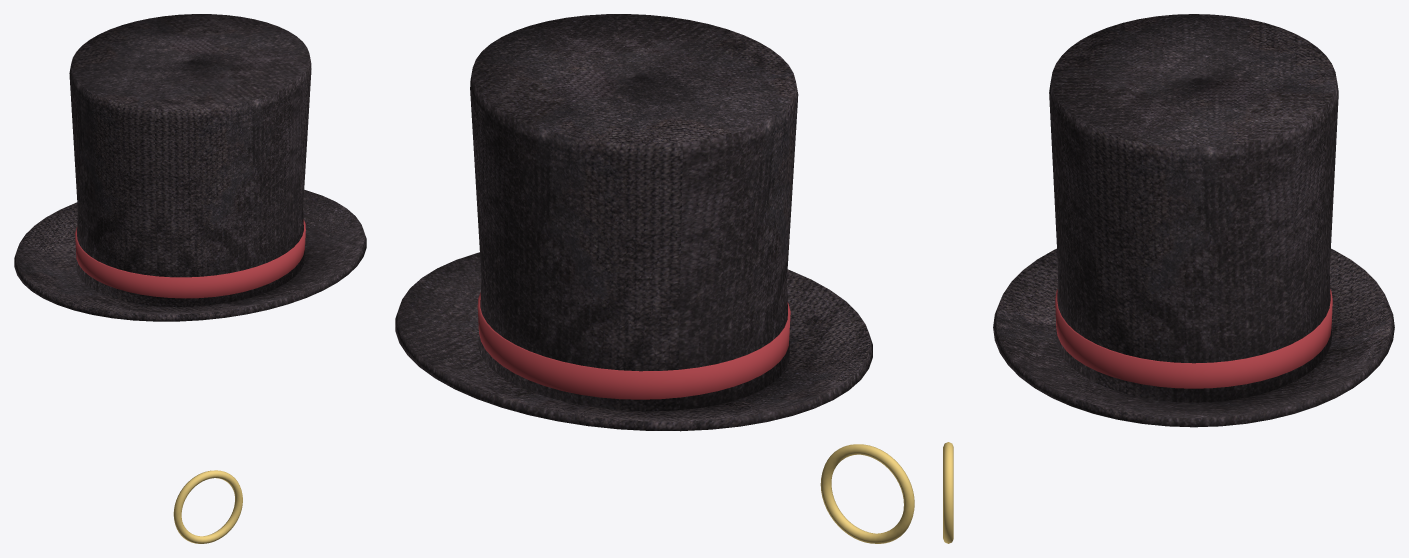
Rendered from tophat1.fbx.
3 renders of one model, left to right at view 1: azimuth 30°, elevation 25°; view 2: azimuth 150°, elevation 25°; view 3: azimuth 270°, elevation 25°, orthographic. The views are drawn at different scales.
Parts seen in each view (by area): view 1: tophat1; view 2: tophat1; view 3: tophat1.
Part boxes in pixels (bbox=[...]): tophat1: bbox=[14, 14, 366, 543]; tophat1: bbox=[395, 14, 914, 543]; tophat1: bbox=[943, 14, 1394, 543].
Size of the model in its own units: 0.62 by 0.737 by 0.5925.
Materials: 3 (1 with a texture image).
